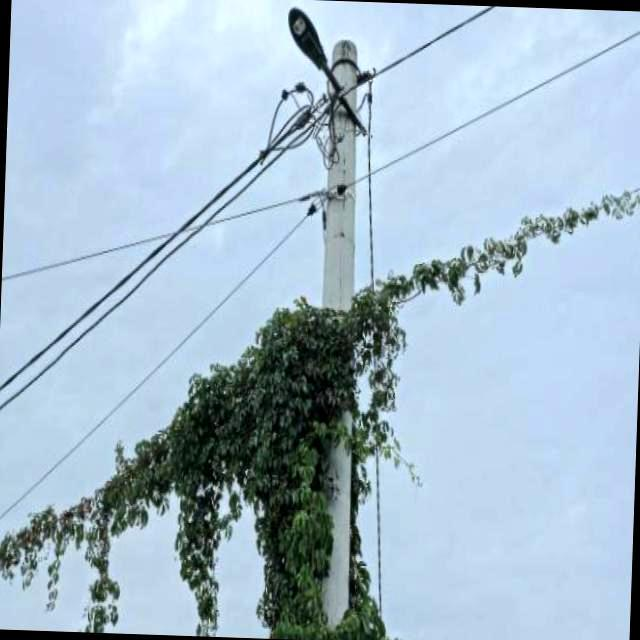light_pole: (291, 91, 393, 640), (193, 276, 387, 536)
